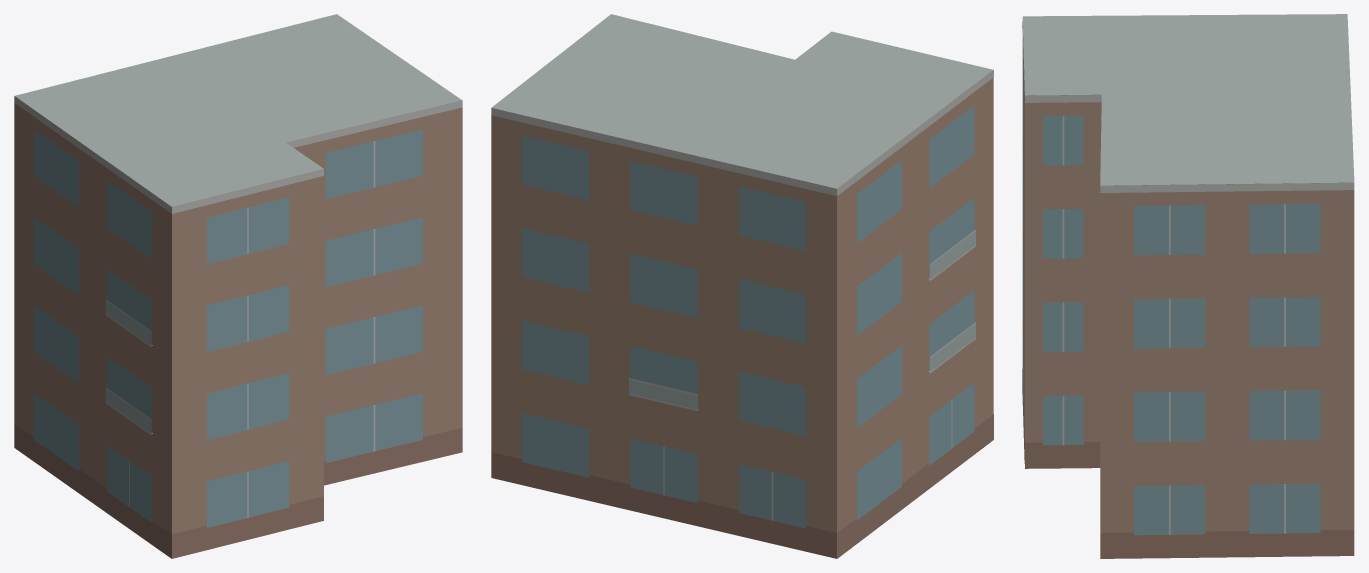
Rendered from survey-upis-32876264.glb.
3 renders of one model, left to right at view 1: azimuth 30°, elevation 25°; view 2: azimuth 150°, elevation 25°; view 3: azimuth 270°, elevation 25°, orthographic. The views are drawn at different scales.
Visible parts, largest first — view 1: survey-upis-32876264.tmp; view 2: survey-upis-32876264.tmp; view 3: survey-upis-32876264.tmp.
Boxes of the visible parts, x1=… form: survey-upis-32876264.tmp: x1=14, y1=14, x2=462, y2=558; survey-upis-32876264.tmp: x1=491, y1=14, x2=993, y2=558; survey-upis-32876264.tmp: x1=1022, y1=14, x2=1354, y2=558.
Bounding box in the file's own units: 12.04 × 12.2 × 9.84.
